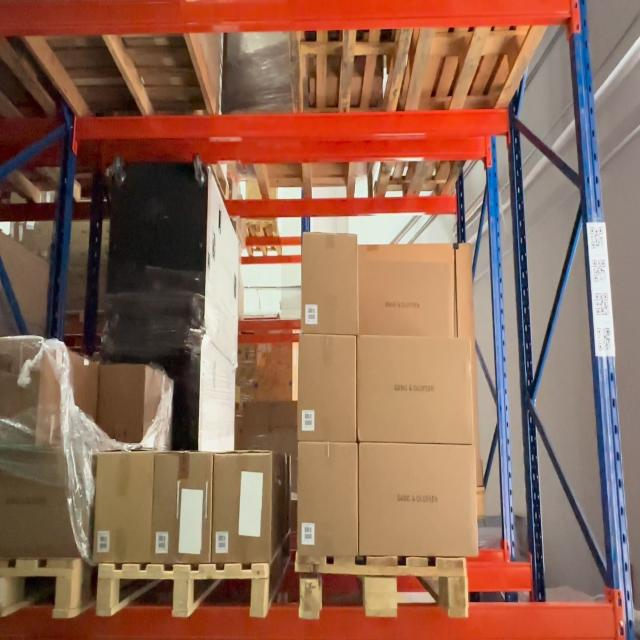box: (107, 162, 203, 316), (355, 334, 474, 448), (358, 444, 473, 552), (100, 333, 197, 444), (360, 248, 466, 334), (2, 453, 88, 555), (94, 452, 156, 566), (295, 446, 357, 556), (152, 456, 209, 567), (300, 231, 358, 331), (215, 450, 270, 550), (303, 339, 354, 442)
